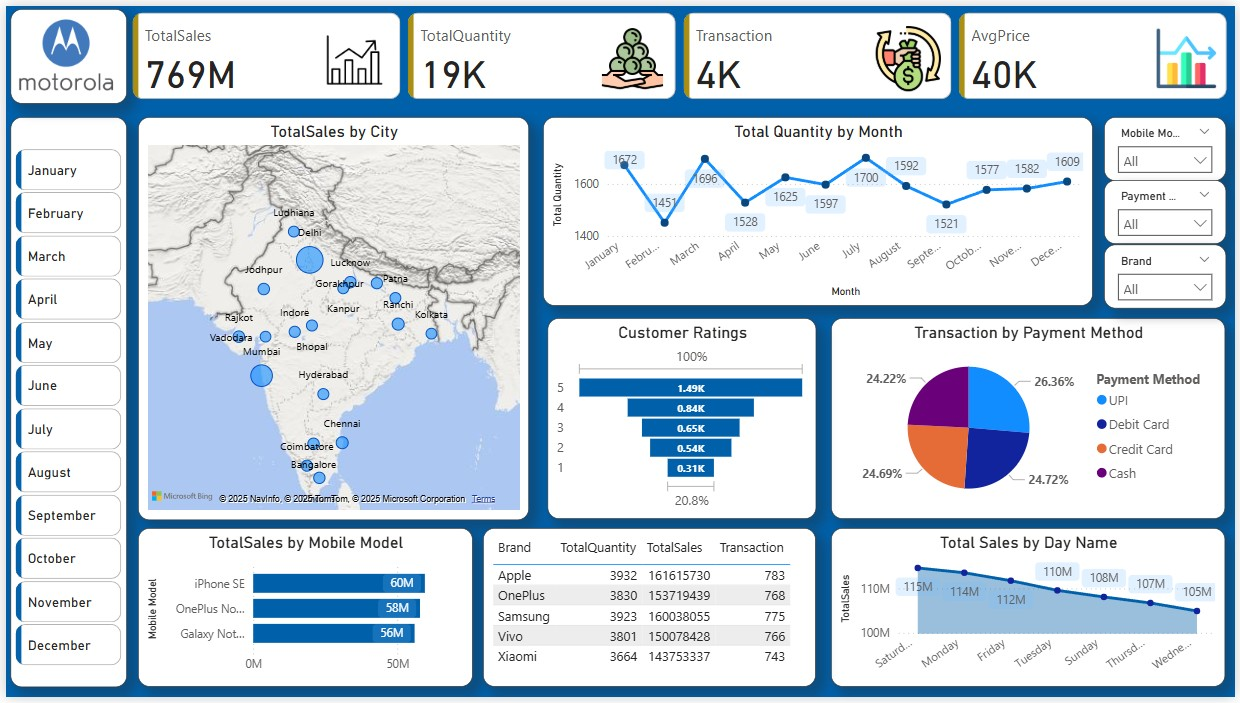

The dashboard page shown, as its layout file describes it:
{"tool":"powerbi","page":{"name":"Page 1","canvas":[1280,720],"ordinal":0},"visuals":[{"type":"shape","box":[4.5,115.2,121.2,593.9],"z":0},{"type":"shape","box":[4.5,3,121.2,98.5],"z":1000},{"type":"image","box":[0,0,125.8,101.5],"z":2000},{"type":"advancedSlicerVisual","fields":{"Values":["Sheet1.Date.Variation.Date Hierarchy.Month"]},"box":[5.2,143.1,120.7,550],"z":3000},{"type":"cardVisual","fields":{"Data":["Sales_data.TotalSales","Sales_data.TotalQuantity","Sales_data.Transaction","Sales_data.AvgPrice"]},"box":[127.3,1.5,1153,100],"z":4000},{"type":"map","fields":{"Category":["Sales_data.City"],"Size":["Sales_data.TotalSales"]},"box":[137.9,115.2,407.6,419.7],"z":5000},{"type":"lineChart","fields":{"Category":["Sales_data.Date.Variation.Date Hierarchy.Month","Sales_data.Date.Variation.Date Hierarchy.Day"],"Y":["Sales_data.TotalQuantity"]},"box":[559.1,115.2,572.7,197],"z":6000},{"type":"clusteredBarChart","fields":{"Category":["Sales_data.Mobile Model"],"Y":["Sales_data.TotalSales"]},"box":[137.9,543.9,348.5,165.2],"z":7000},{"type":"pieChart","fields":{"Category":["Sales_data.Payment Method"],"Y":["Sales_data.Transaction"]},"box":[859.1,325.8,410.6,209.1],"z":8000},{"type":"funnel","title":"Customer Ratings ","fields":{"Category":["Sales_data.Customer Ratings"],"Y":["CountNonNull(Sales_data.Customer Ratings)"]},"box":[563.6,325.8,280.3,209.1],"z":9000},{"type":"areaChart","title":"Total Sales by Day Name","fields":{"Category":["Sales_data.Day Name"],"Y":["Sales_data.TotalSales"]},"box":[859.1,543.9,410.6,165.2],"z":10000},{"type":"tableEx","fields":{"Values":["Sales_data.Brand","Sales_data.TotalQuantity","Sales_data.TotalSales","Sales_data.Transaction"]},"box":[497,543.9,347,165.2],"z":11000},{"type":"slicer","fields":{"Values":["Sales_data.Mobile Model"]},"box":[1143.9,115.2,127.3,66.7],"z":12000},{"type":"slicer","fields":{"Values":["Sales_data.Payment Method"]},"box":[1143.9,181.8,127.3,66.7],"z":13000},{"type":"slicer","fields":{"Values":["Sales_data.Brand"]},"box":[1143.9,248.5,127.3,66.7],"z":14000}]}

Visuals, with their boxes in screenshot pixels (x1, y1, x2, y2), scaled from the page's 1280x720 canvas onto the 1240x703 screenshot:
shape: l=4, t=112, r=122, b=692
shape: l=4, t=3, r=122, b=99
image: l=0, t=0, r=122, b=99
advancedSlicerVisual - Sheet1.Date.Variation.Date Hierarchy.Month: l=5, t=140, r=122, b=677
cardVisual - Sales_data.TotalSales x Sales_data.TotalQuantity: l=123, t=1, r=1239, b=99
map - Sales_data.City x Sales_data.TotalSales: l=134, t=112, r=528, b=522
lineChart - Sales_data.Date.Variation.Date Hierarchy.Month x Sales_data.Date.Variation.Date Hierarchy.Day: l=542, t=112, r=1096, b=305
clusteredBarChart - Sales_data.Mobile Model x Sales_data.TotalSales: l=134, t=531, r=471, b=692
pieChart - Sales_data.Payment Method x Sales_data.Transaction: l=832, t=318, r=1230, b=522
"Customer Ratings " funnel: l=546, t=318, r=818, b=522
"Total Sales by Day Name" areaChart: l=832, t=531, r=1230, b=692
tableEx - Sales_data.Brand x Sales_data.TotalQuantity: l=481, t=531, r=818, b=692
slicer - Sales_data.Mobile Model: l=1108, t=112, r=1231, b=178
slicer - Sales_data.Payment Method: l=1108, t=178, r=1231, b=243
slicer - Sales_data.Brand: l=1108, t=243, r=1231, b=308
